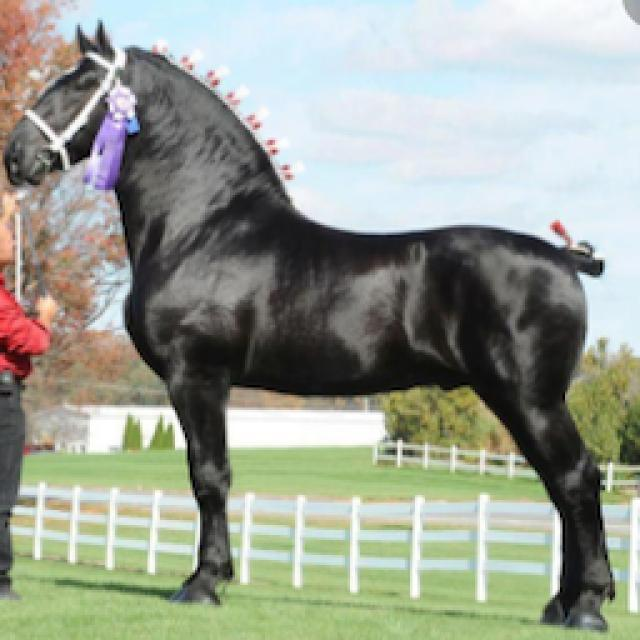Horse: (0, 10, 635, 635)
